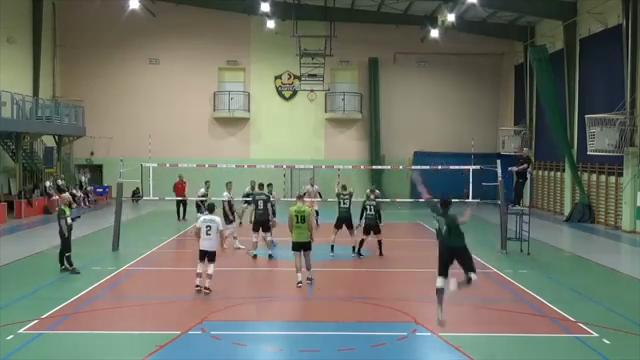battuta: (406, 161, 479, 334)
